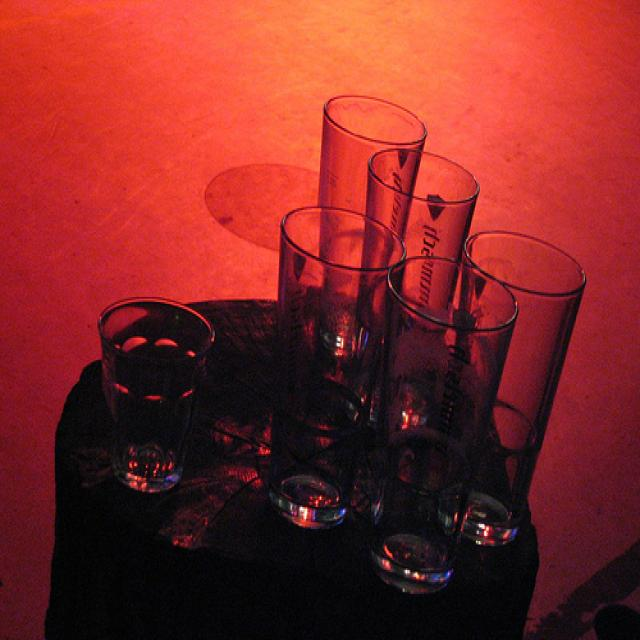Cup: (259, 209, 403, 531), (378, 251, 514, 579), (451, 243, 597, 546), (303, 69, 443, 303), (364, 139, 488, 374), (100, 273, 214, 513)
Table: (47, 301, 600, 640)
